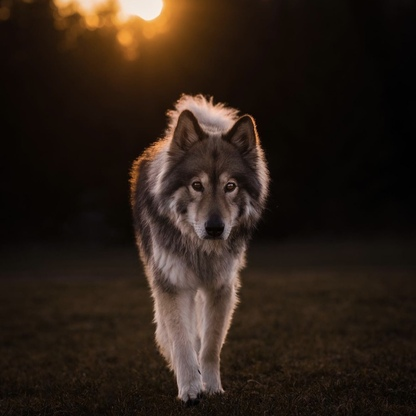husky: (124, 89, 273, 403)
